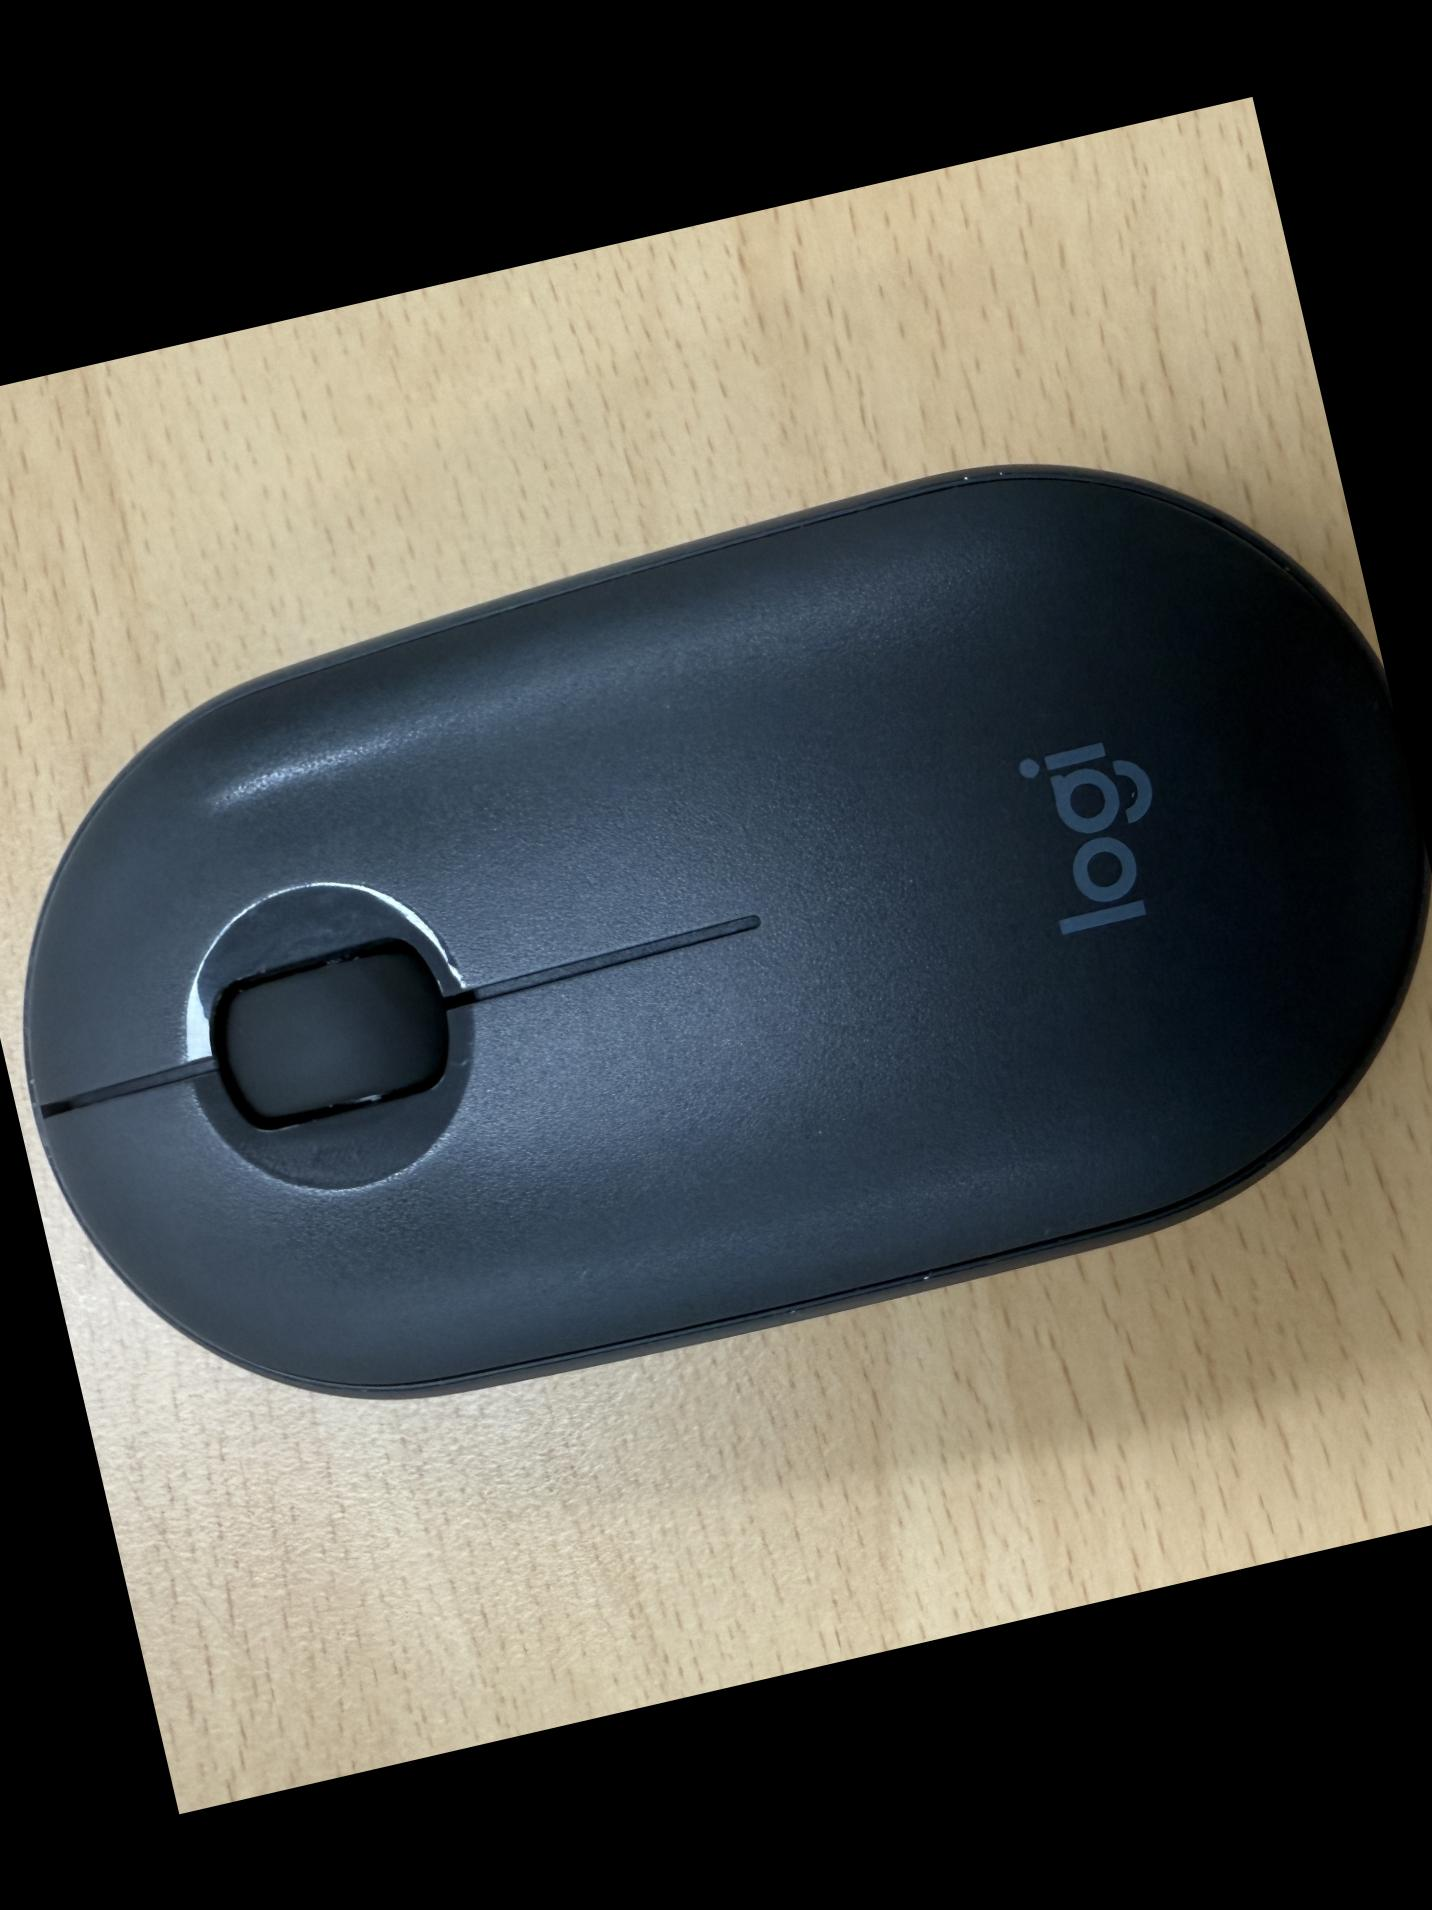front: (0, 368, 1432, 1496)
